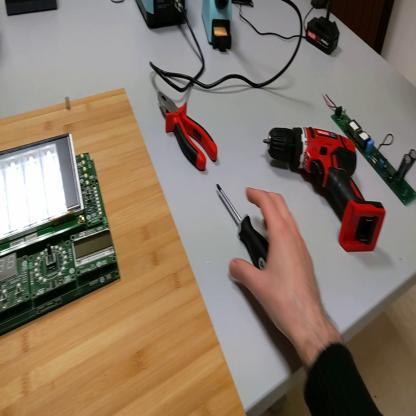electric screwdriver: (263, 126, 387, 256)
electric screwdriver battery: (306, 20, 341, 54)
hand: (230, 186, 325, 345)
high voltage board: (325, 93, 416, 207)
low voltage board: (3, 130, 123, 338)
pliers: (159, 94, 219, 172)
screwdriver-: (215, 183, 265, 268)
welder base: (203, 2, 236, 55)
welder station: (137, 2, 190, 31)
working area: (2, 88, 247, 414)
